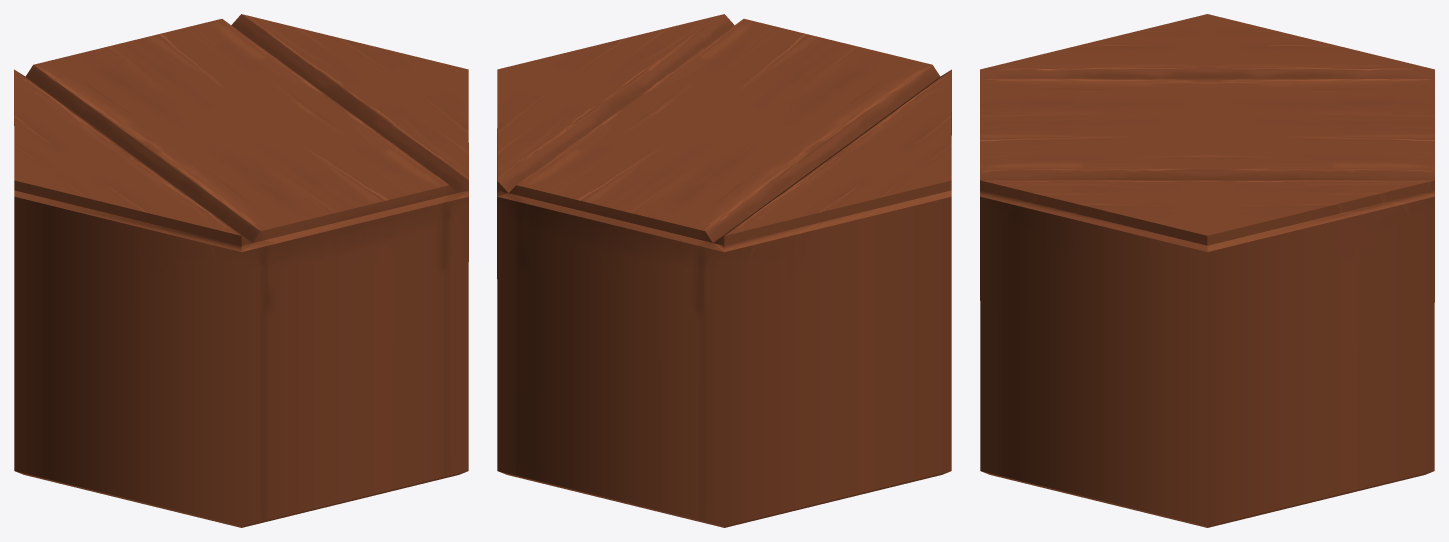
File: Shoptile.fbx
The picture shows the model from 3 angles, left to right: view 1: azimuth 30°, elevation 25°; view 2: azimuth 150°, elevation 25°; view 3: azimuth 270°, elevation 25°; orthographic projection.
Parts seen in each view (by area): view 1: Object153; view 2: Object153; view 3: Object153.
Boxes of the visible parts, x1,y1,x2,y2 form: Object153: [14, 14, 468, 527]; Object153: [497, 14, 951, 527]; Object153: [980, 14, 1434, 527].
Bounding box in the file's own units: 2.21 × 1.92 × 1.38.
1 material, 1 textured.
